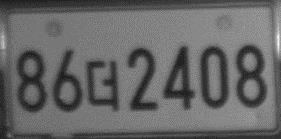0: (199, 43, 230, 110)
2: (126, 47, 160, 112)
4: (160, 44, 196, 111)
6: (50, 47, 84, 112)
8: (233, 42, 269, 108), (15, 48, 46, 112)
더: (84, 58, 120, 112)
